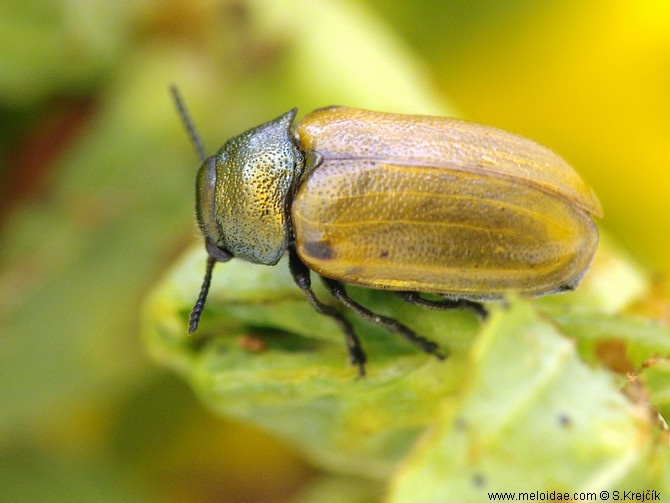Labidostomis_longimana: (152, 79, 605, 395)
